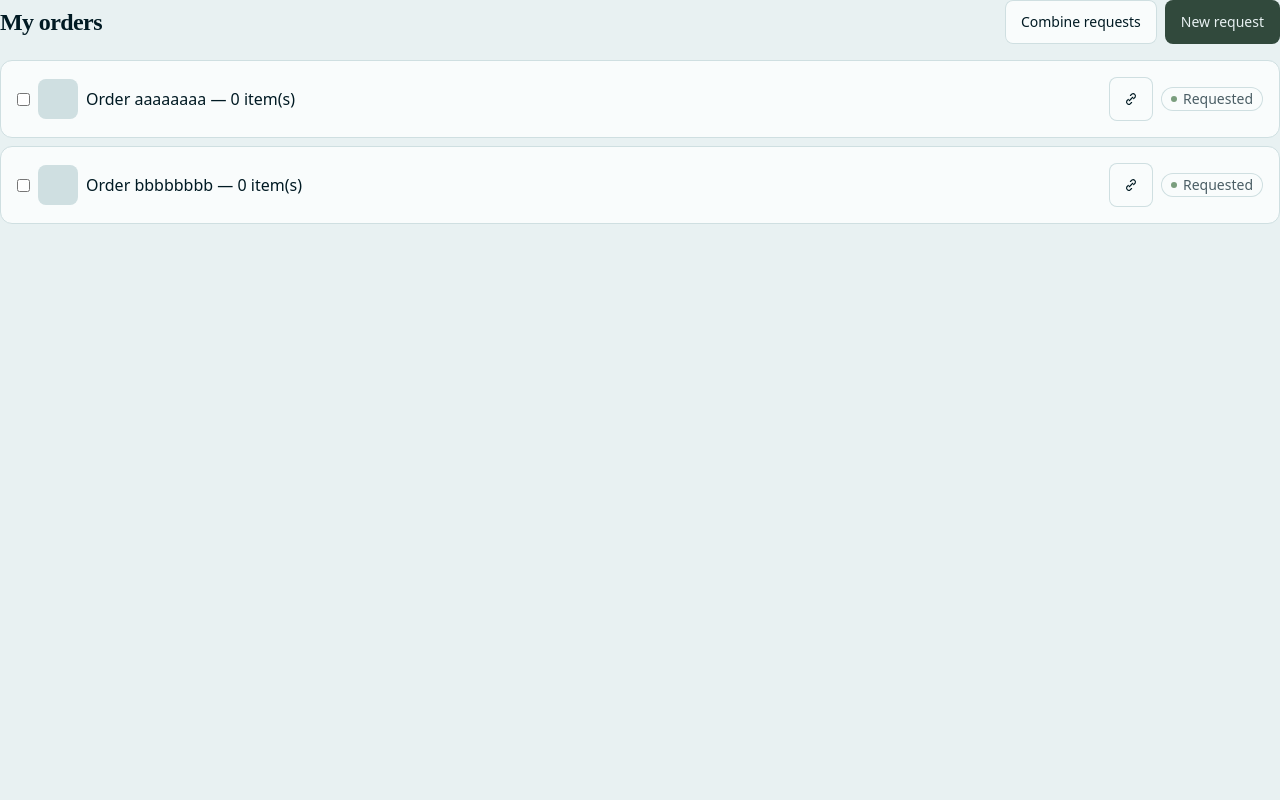
Test case: OrdersListPage › merging › shows the server error when merging fails
Click the checkbox named "Select order aaaaaaaa to merge" at (24, 99), box [17, 92, 30, 106]
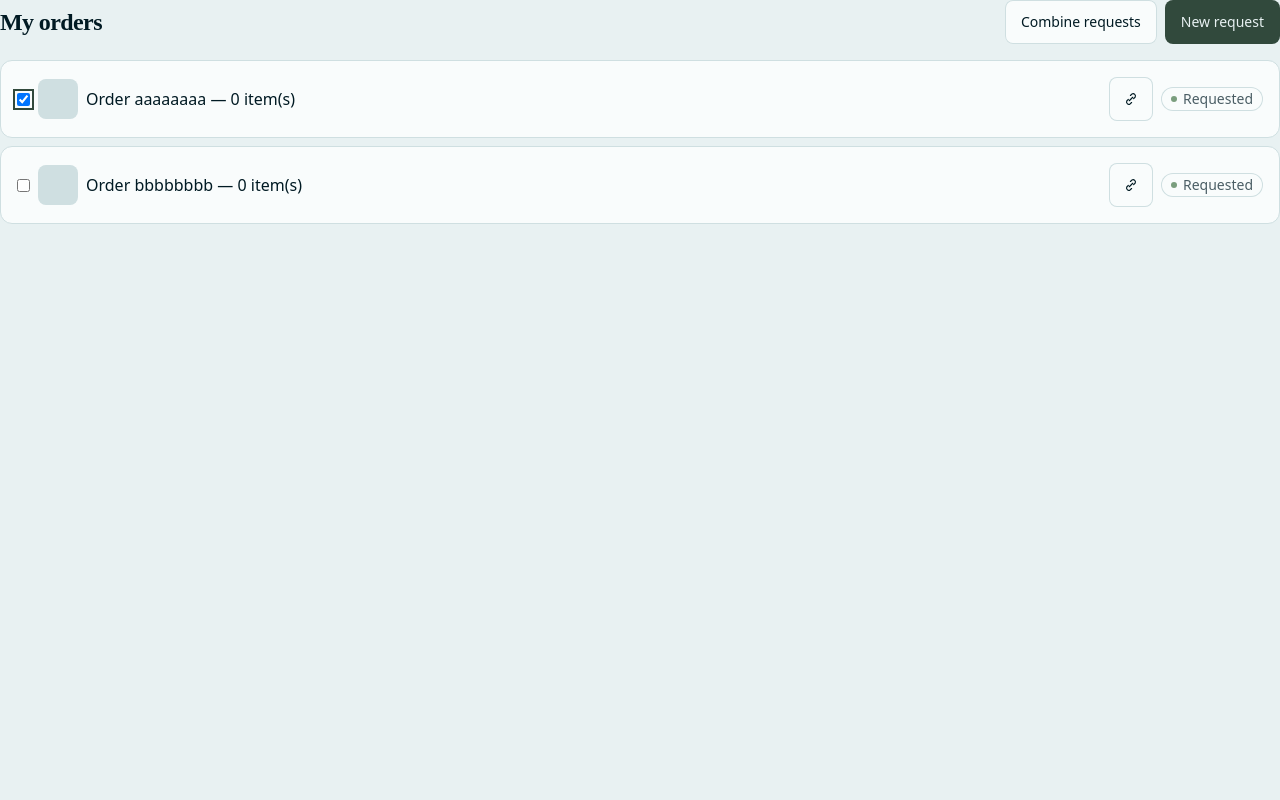
Click the checkbox named "Select order bbbbbbbb to merge" at (24, 185), box [17, 178, 30, 192]
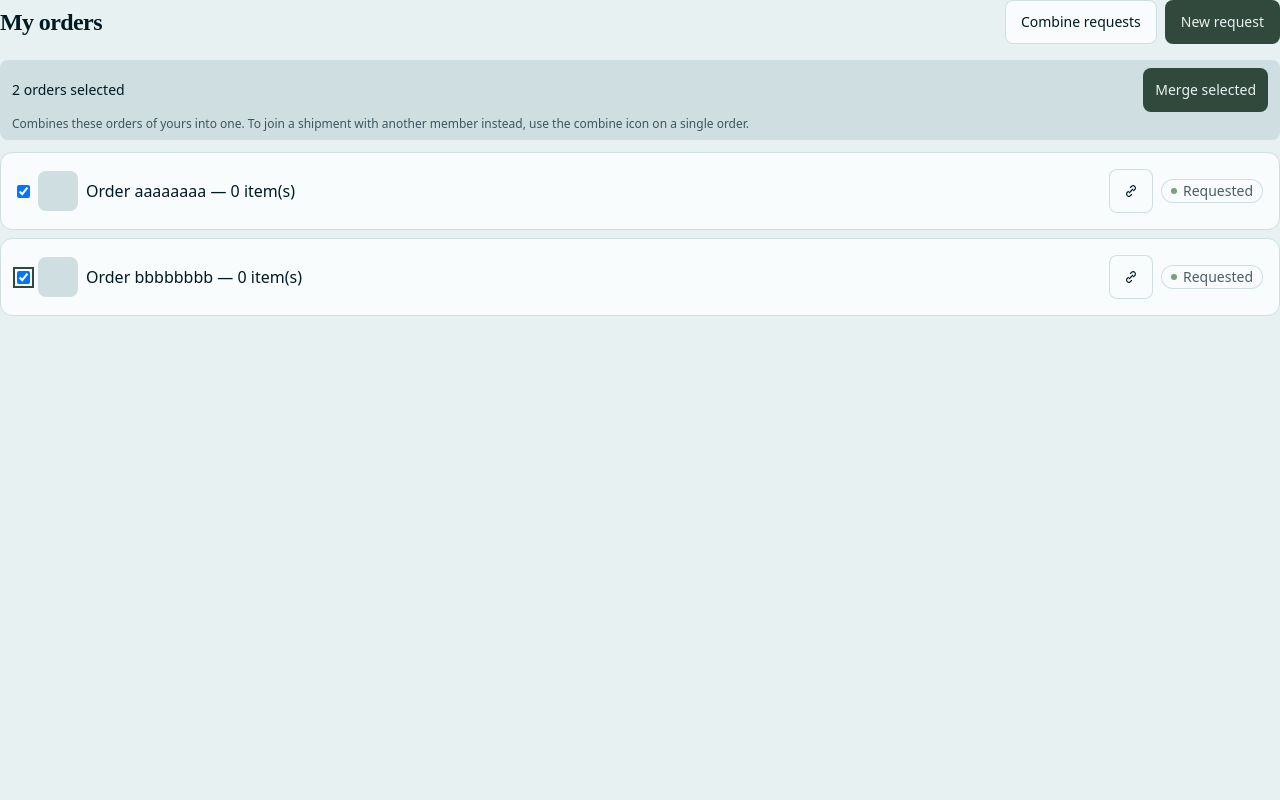
Click the button "Merge selected" at (1206, 90), box [1143, 68, 1268, 112]
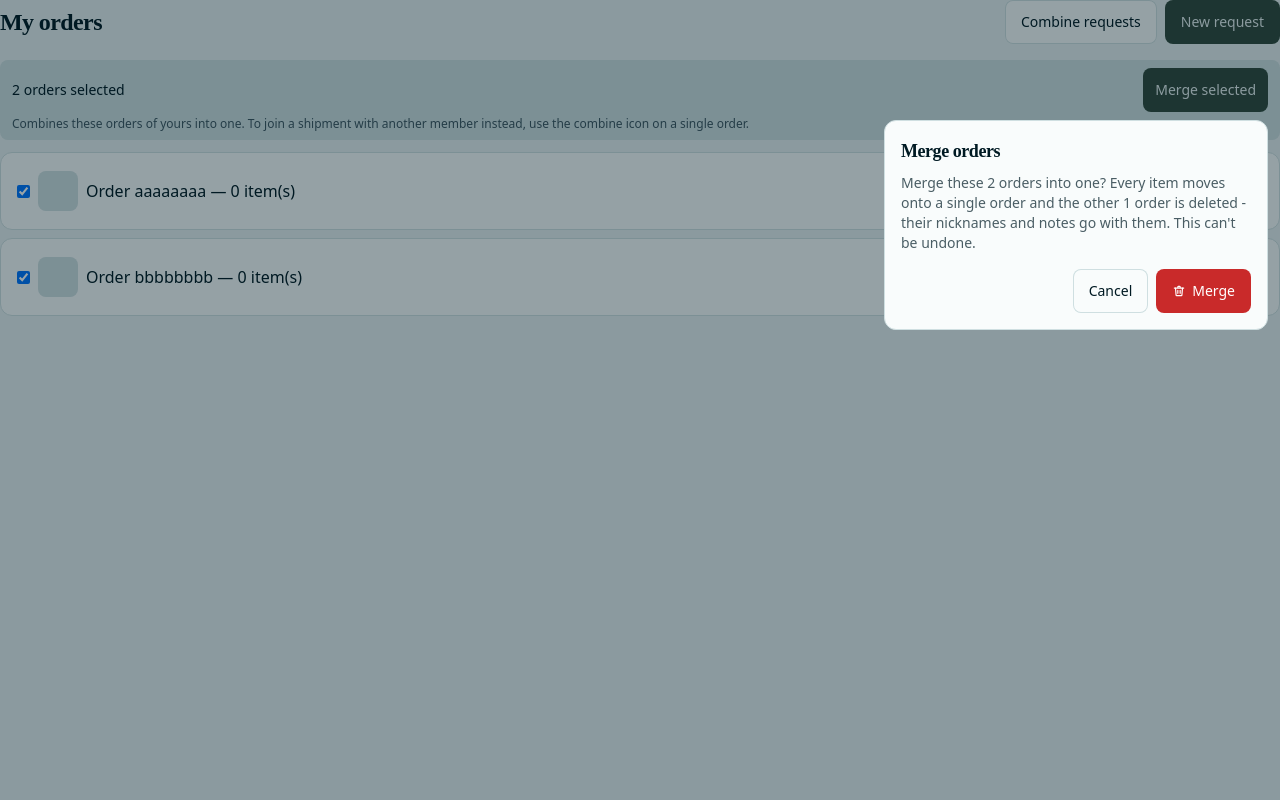
Click the button "Merge" at (1204, 291), box [1156, 269, 1251, 313]
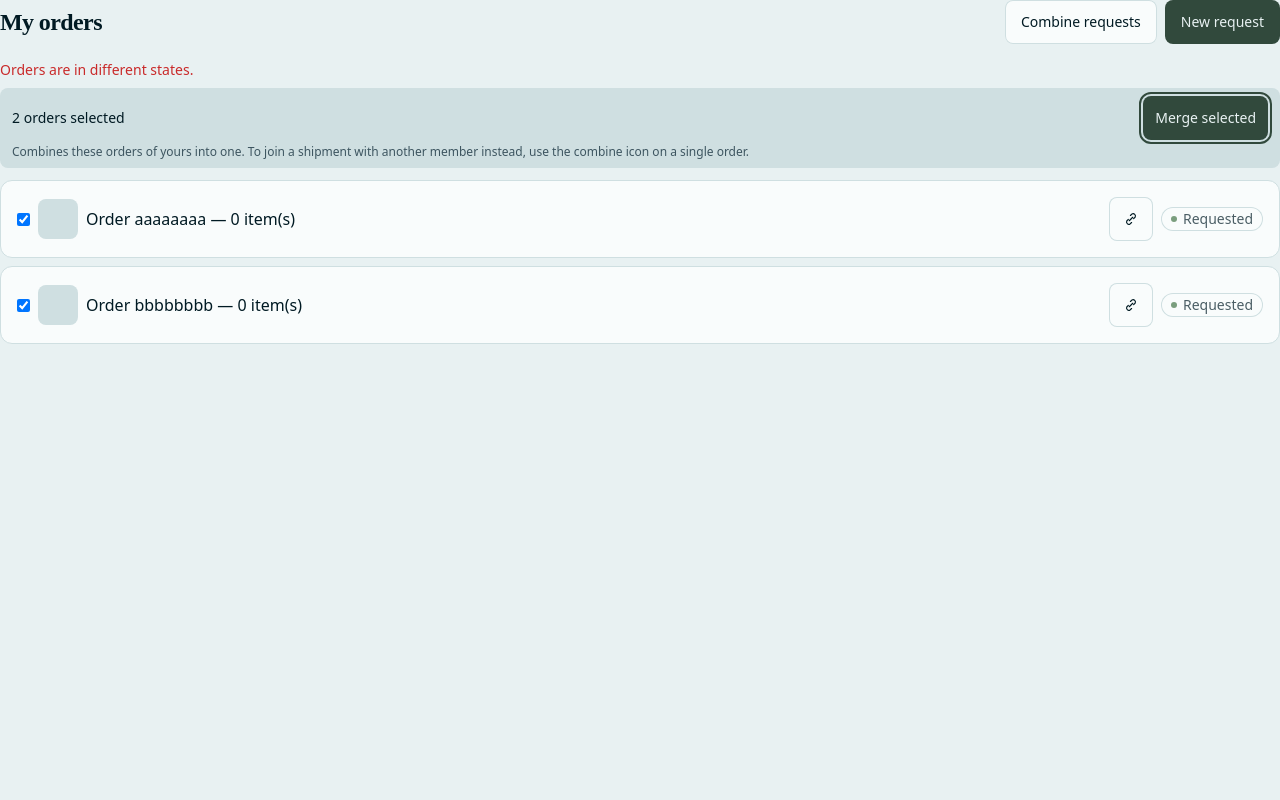
Now the text "Orders are in different states." is shown, box [0, 60, 193, 79]
